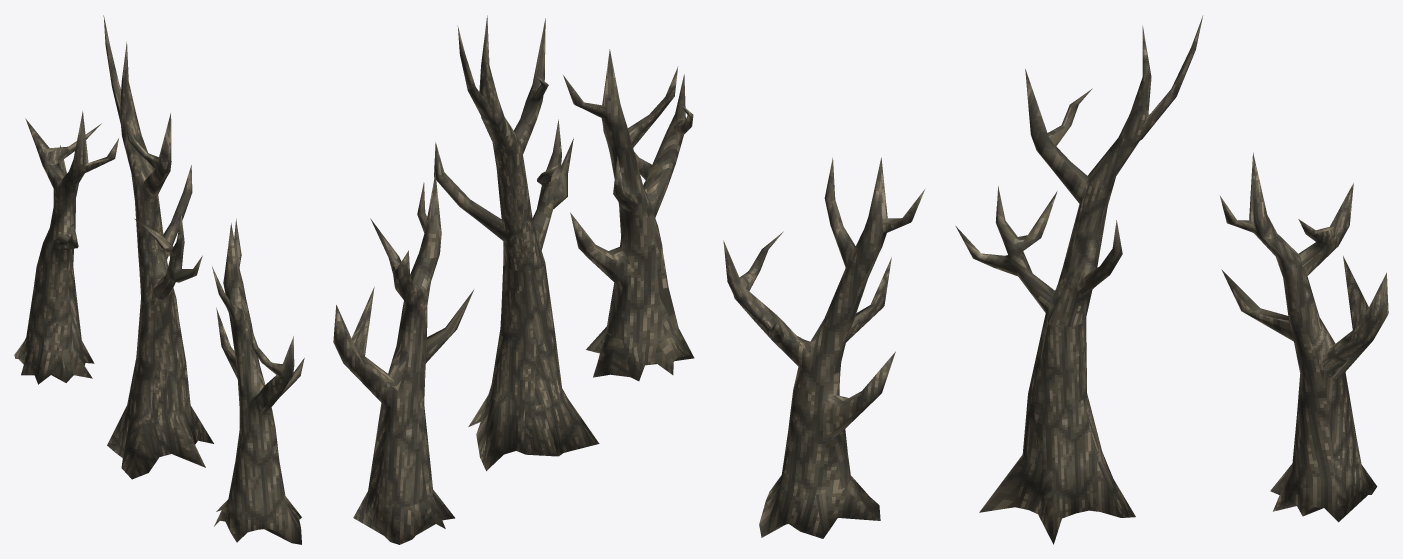
File: деревья_мёртвые.fbx
The picture shows the model from 3 angles, left to right: view 1: azimuth 30°, elevation 25°; view 2: azimuth 150°, elevation 25°; view 3: azimuth 270°, elevation 25°; orthographic projection. The views are drawn at different scales.
Visible parts, largest first — view 1: Tree_1, Tree_2, Tree_3; view 2: Tree_1, Tree_2, Tree_3; view 3: Tree_1, Tree_2, Tree_3.
Part boxes in pixels (x1=…): Tree_1: x1=103, y1=15, x2=213, y2=479; Tree_2: x1=212, y1=219, x2=304, y2=544; Tree_3: x1=14, y1=111, x2=118, y2=384; Tree_1: x1=434, y1=15, x2=599, y2=471; Tree_2: x1=563, y1=49, x2=694, y2=381; Tree_3: x1=333, y1=172, x2=473, y2=544; Tree_1: x1=955, y1=15, x2=1203, y2=544; Tree_2: x1=723, y1=157, x2=924, y2=538; Tree_3: x1=1220, y1=152, x2=1388, y2=522.
Size of the model in its own units: 161 by 607 by 717.
1 material, 1 textured.
